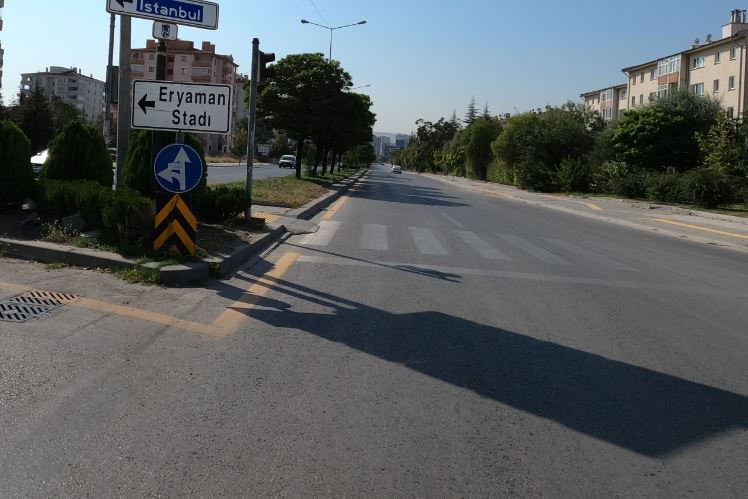ileri ve Sola Mecburi Don: (148, 138, 206, 196)
